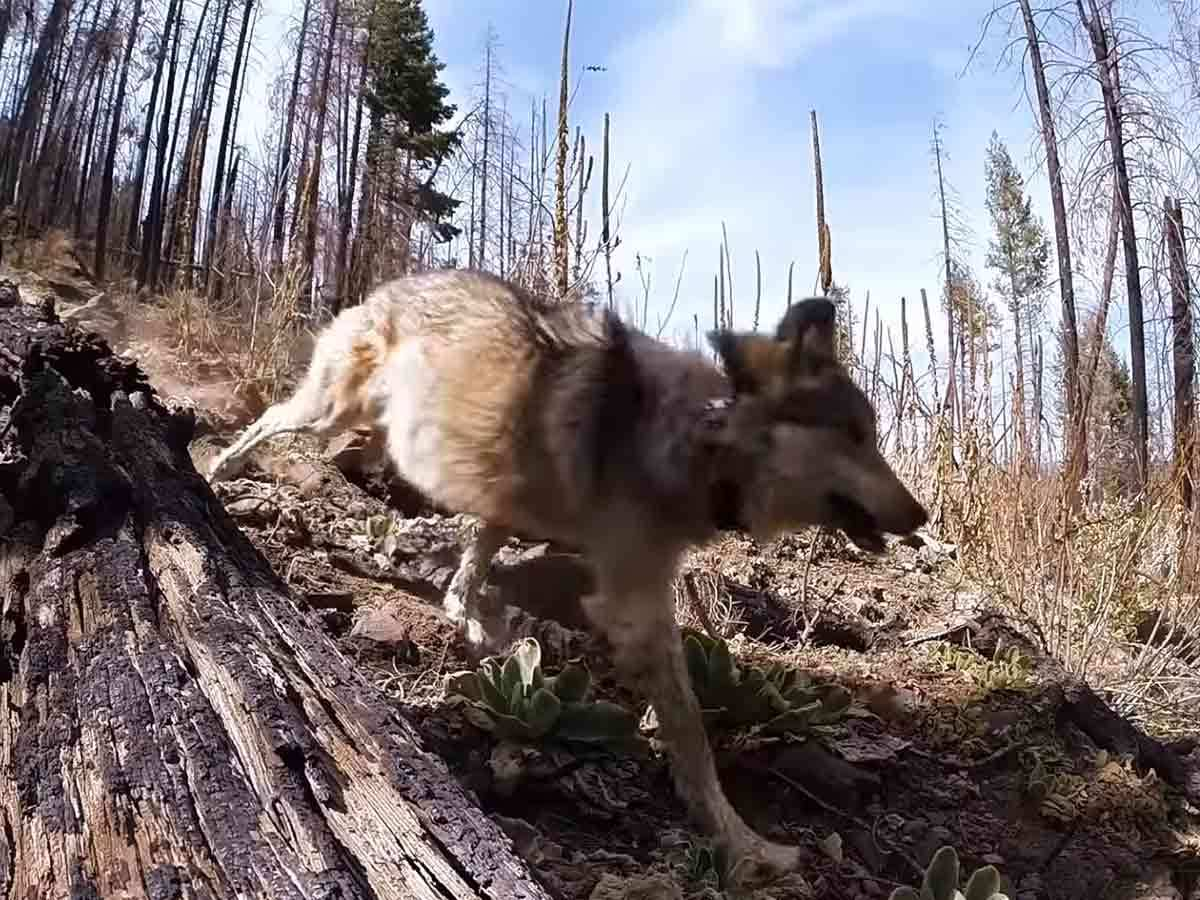Lobo: (291, 123, 961, 829)
